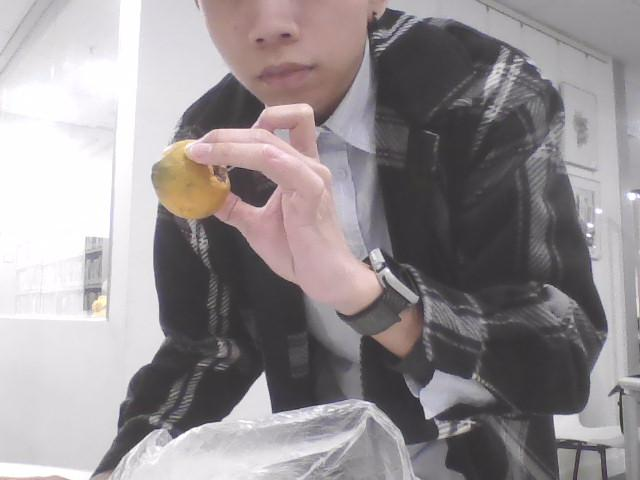lemon: (151, 140, 229, 219)
